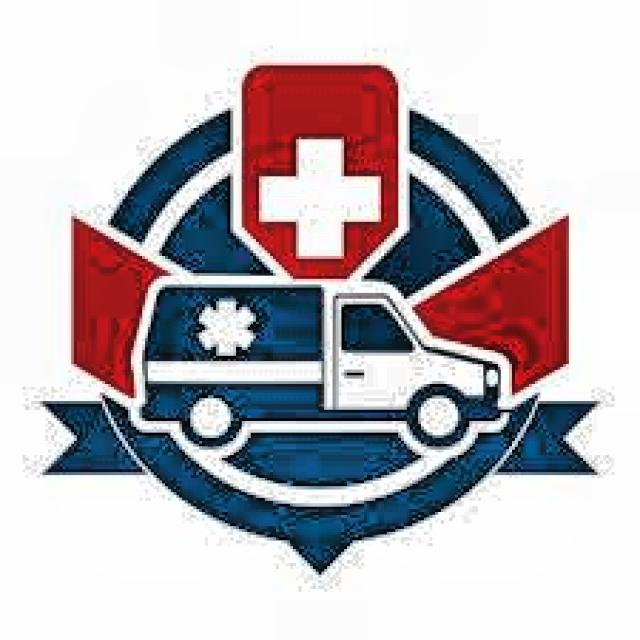Ambulance: (54, 65, 566, 569), (190, 298, 262, 358)
